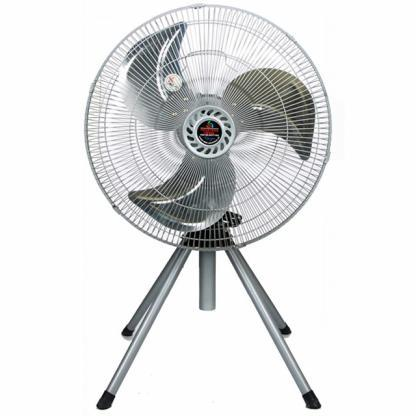fan: (82, 1, 340, 256)
